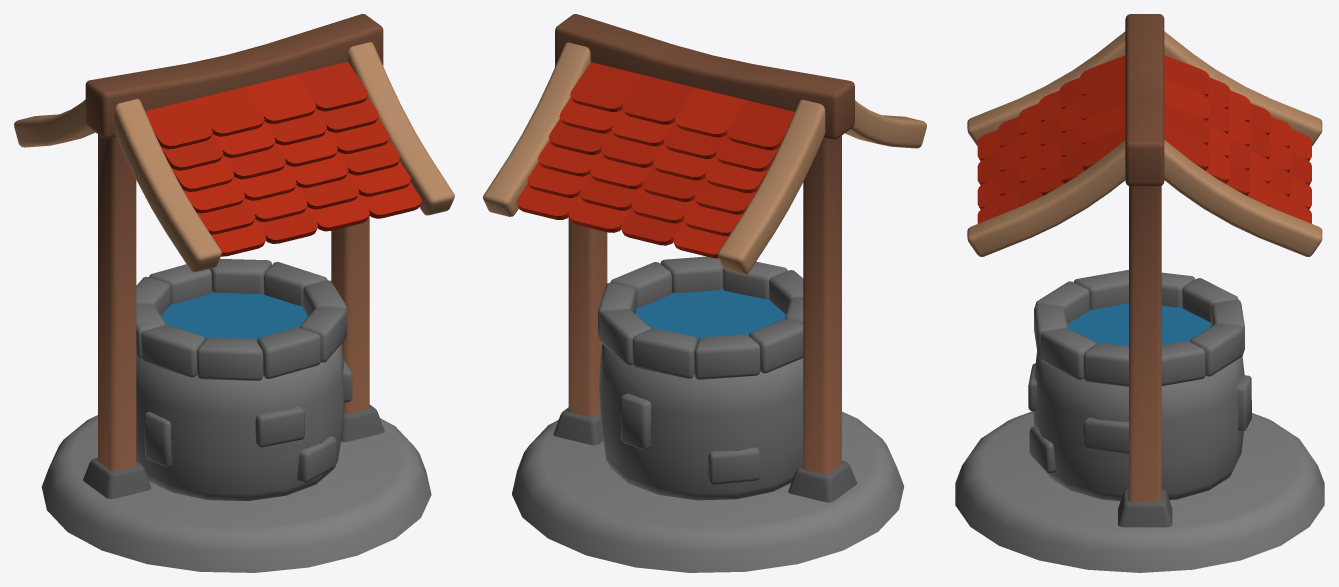
The model's file is prop4.fbx.
The picture shows the model from 3 angles, left to right: view 1: azimuth 30°, elevation 25°; view 2: azimuth 150°, elevation 25°; view 3: azimuth 270°, elevation 25°; orthographic projection. The views are drawn at different scales.
Parts seen in each view (by area): view 1: Cube.001; view 2: Cube.001; view 3: Cube.001.
Part boxes in pixels (x1,y1,x2,y2): Cube.001: (14, 14, 454, 572); Cube.001: (483, 14, 926, 572); Cube.001: (955, 14, 1324, 572).
Bounding box in the file's own units: 3.08 × 3.05 × 3.79.
